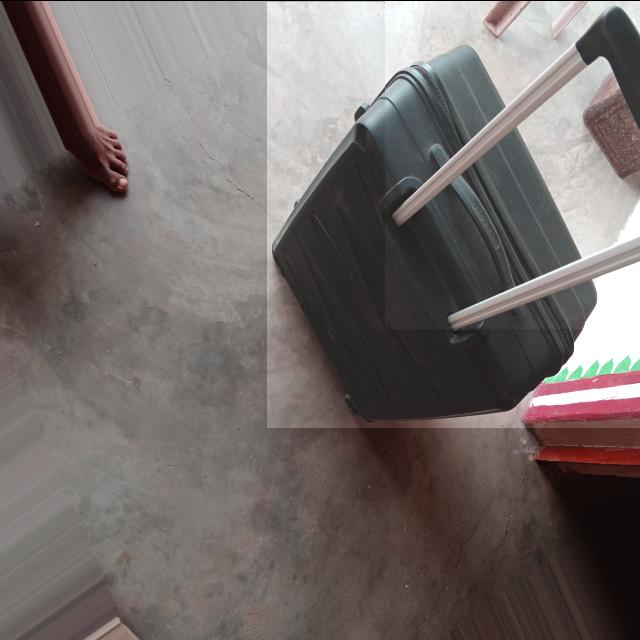Bag: (272, 0, 640, 419)
Handle: (387, 4, 640, 334)
